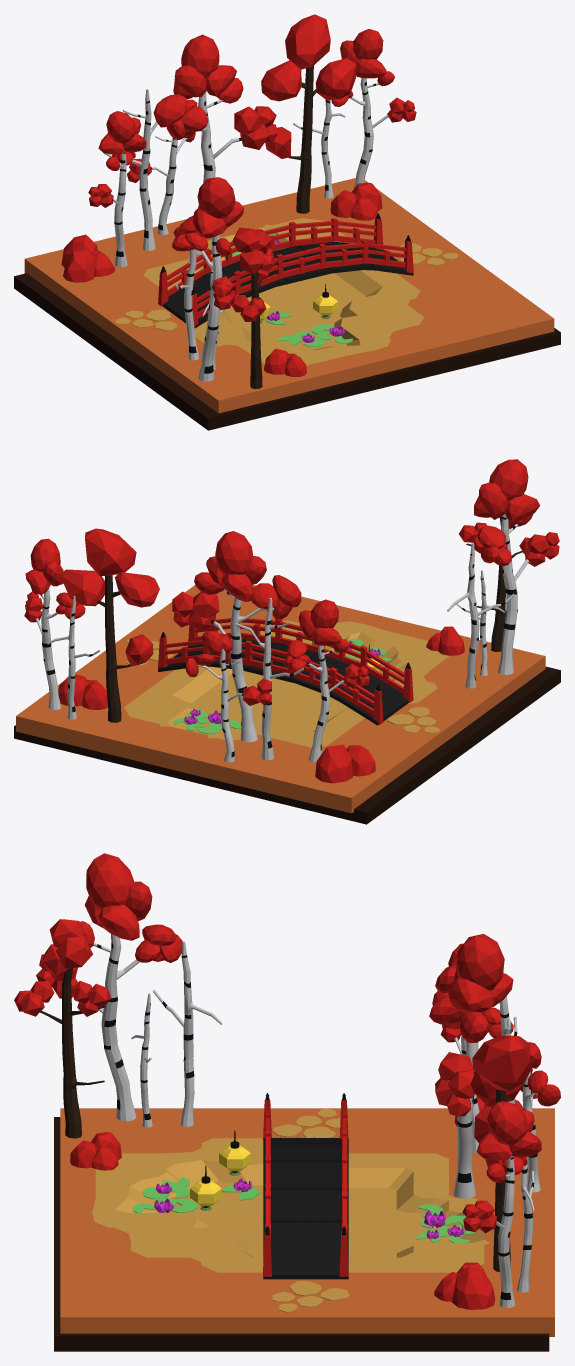
The model's file is garden.obj.
3 renders of one model, top to bottom at view 1: azimuth 30°, elevation 25°; view 2: azimuth 150°, elevation 25°; view 3: azimuth 270°, elevation 25°, orthographic. The views are drawn at different scales.
Visible parts, largest first — view 1: Cube, Cube.005, Icosphere.016, Circle, Cylinder.005, Cylinder.003, Cylinder.001, Icosphere.010, Icosphere.017, Icosphere.018, Cylinder.006, Icosphere.001 (+3 smaller); view 2: Cube, Cube.005, Icosphere.016, Circle, Cylinder.005, Cylinder.001, Cylinder.003, Icosphere.001, Icosphere.017, Icosphere.010, Cylinder.006, Cylinder.004 (+4 smaller); view 3: Cube, Cube.005, Icosphere.016, Cylinder.005, Icosphere.010, Cylinder.003, Circle, Icosphere.018, Cylinder.004, Icosphere.001, Icosphere.002, Cylinder.001 (+4 smaller).
Boxes of the visible parts, <box> form: Cube: <box>14,178,560,430</box>; Cube.005: <box>158,213,413,328</box>; Icosphere.016: <box>153,34,277,254</box>; Circle: <box>261,14,356,213</box>; Cylinder.005: <box>172,177,243,381</box>; Cylinder.003: <box>326,29,416,188</box>; Cylinder.001: <box>88,111,146,267</box>; Icosphere.010: <box>231,227,274,389</box>; Icosphere.017: <box>61,234,114,282</box>; Icosphere.018: <box>330,182,382,220</box>; Cylinder.006: <box>103,89,157,250</box>; Icosphere.001: <box>127,130,195,235</box>; Cube: <box>14,584,560,824</box>; Cube.005: <box>158,618,413,725</box>; Icosphere.016: <box>172,531,301,742</box>; Circle: <box>62,528,159,722</box>; Cylinder.005: <box>474,459,559,674</box>; Cylinder.001: <box>284,599,369,762</box>; Cylinder.003: <box>24,538,85,709</box>; Icosphere.001: <box>185,630,271,762</box>; Icosphere.017: <box>315,744,375,783</box>; Icosphere.010: <box>459,493,545,651</box>; Cylinder.006: <box>235,597,303,760</box>; Cylinder.004: <box>447,542,514,688</box>; Cube: <box>54,1108,554,1351</box>; Cube.005: <box>263,1093,348,1279</box>; Icosphere.016: <box>429,933,513,1198</box>; Cylinder.005: <box>36,853,182,1121</box>; Icosphere.010: <box>14,919,111,1138</box>; Cylinder.003: <box>462,1101,541,1307</box>; Circle: <box>470,1035,531,1271</box>; Icosphere.018: <box>434,1262,495,1309</box>; Cylinder.004: <box>153,941,221,1126</box>; Icosphere.001: <box>520,1042,560,1192</box>; Icosphere.002: <box>70,1132,121,1170</box>; Cylinder.001: <box>440,943,513,1153</box>.
Bounding box in the file's own units: 11.36 × 6.81 × 11.37.
